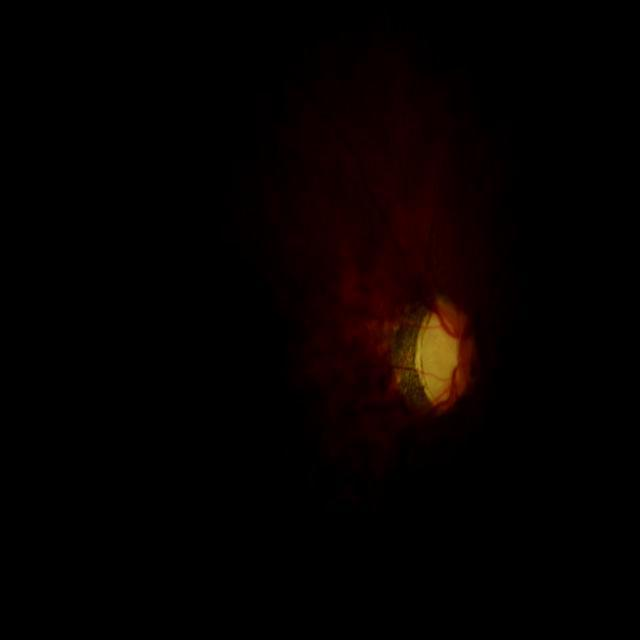cup: (416, 306, 472, 405)
disk: (414, 298, 482, 414)
